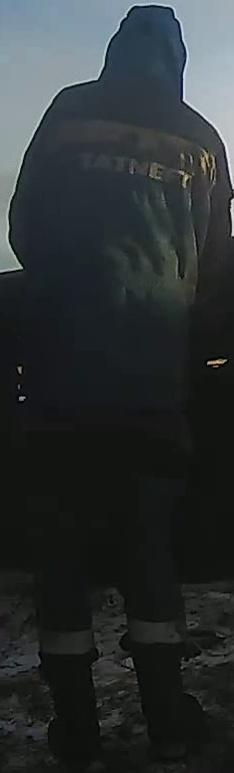vest: (7, 91, 228, 421)
